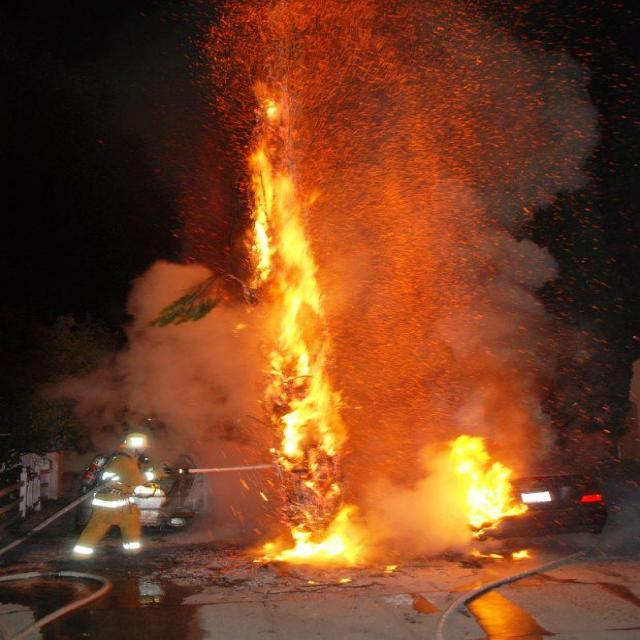Fire: (208, 46, 396, 593), (426, 423, 543, 584)
